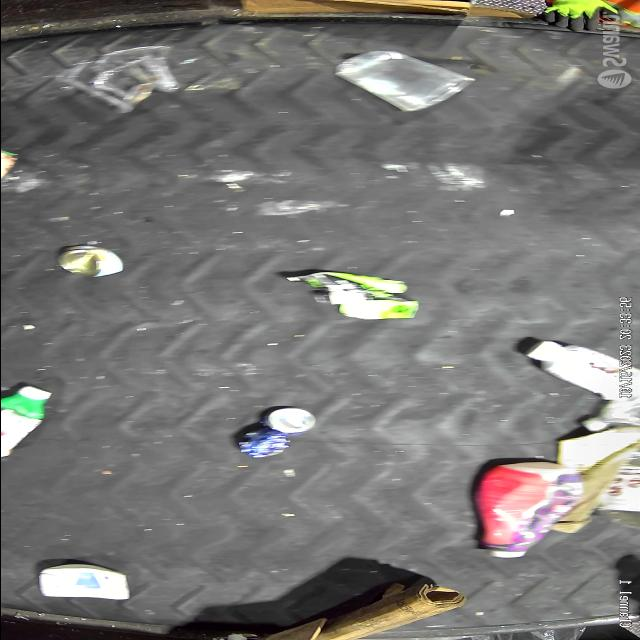can: (223, 404, 330, 458), (51, 245, 129, 278)
